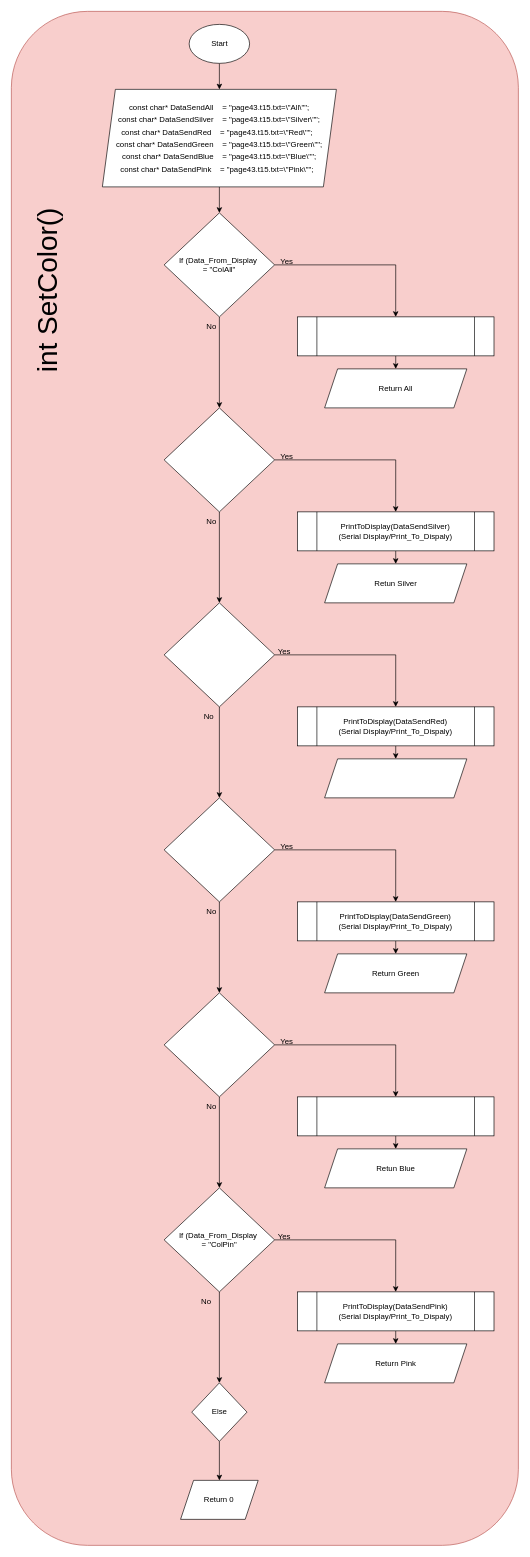
The diagram is 530 pixels wide and 1557 high, and some of its shapes have lost their labels. The centre of each missing label's shape, as x and y in pixels:
If (Data_From_Display = "ColBlue": point 219,1044
If (Data_From_Display = "ColGre": point 219,849
If (Data_From_Display = "ColRed": point 219,654
If (Data_From_Display = "ColSil": point 219,459
PrintToDisplay(DataSendAll ) (Serial Display/Print_To_Dispaly): point 395,336
PrintToDisplay(DataSendBlue ) (Serial Display/Print_To_Dispaly): point 395,1116
Return Red: point 395,778
